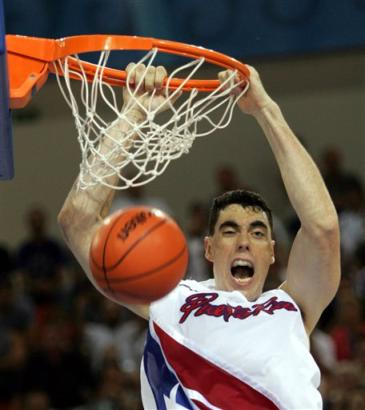basketball: (89, 206, 188, 303)
